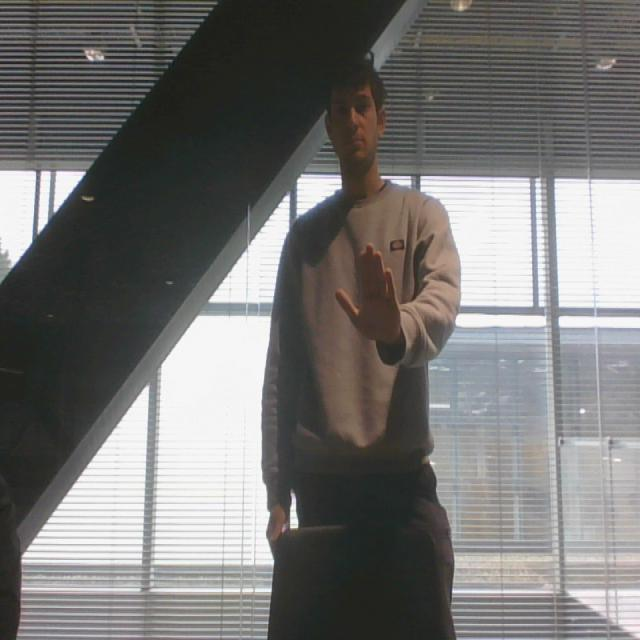backward: (332, 238, 412, 363)
